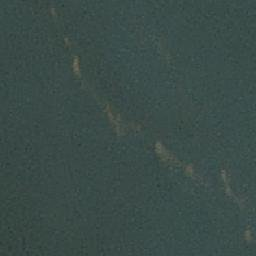debris: (105, 109, 135, 135), (152, 148, 188, 169), (221, 169, 230, 198), (73, 56, 82, 79)
